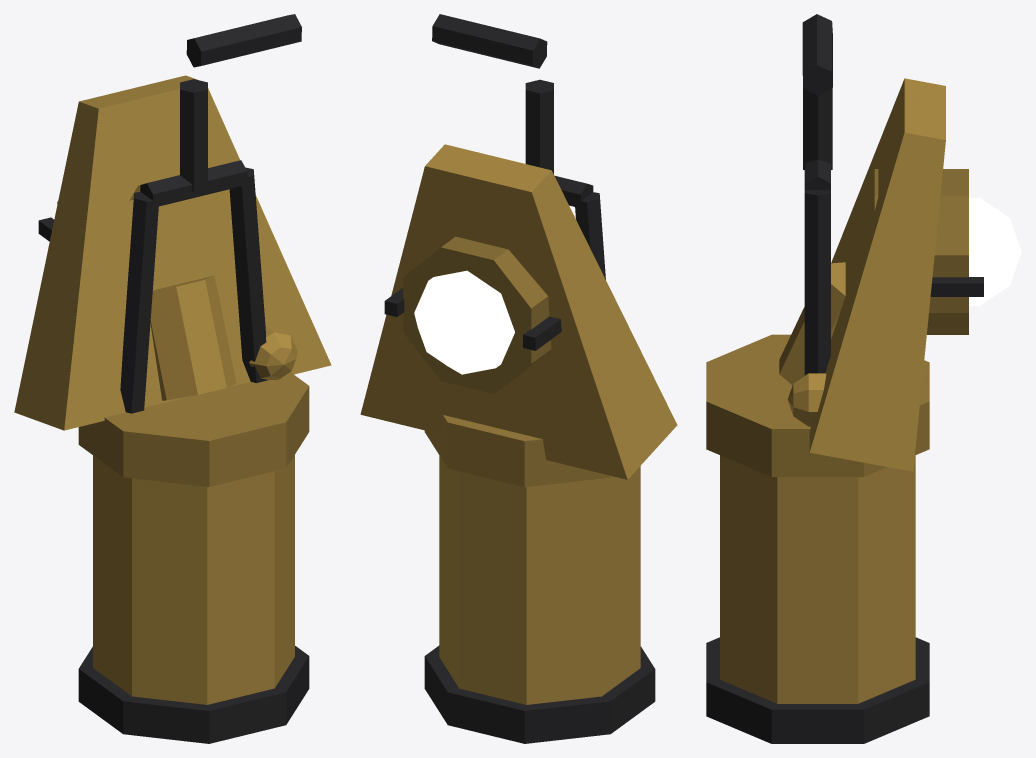
File: MinersLamp.glb
3 views of the same model, side by side, from view 1: azimuth 30°, elevation 25°; view 2: azimuth 150°, elevation 25°; view 3: azimuth 270°, elevation 25° (orthographic). The views are drawn at different scales.
Visible parts, largest first — view 1: Body, Handle; view 2: Body, Handle, Glow; view 3: Body, Handle, Glow.
Boxes of the visible parts, x1,y1,x2,y2 form: Body: [14, 75, 331, 743]; Handle: [120, 14, 301, 413]; Body: [360, 144, 677, 743]; Handle: [432, 14, 605, 279]; Glow: [414, 270, 514, 374]; Body: [706, 78, 983, 743]; Handle: [802, 14, 832, 375]; Glow: [969, 198, 1021, 305].
Bounding box in the file's own units: 0.85 × 1.99 × 0.8356.
